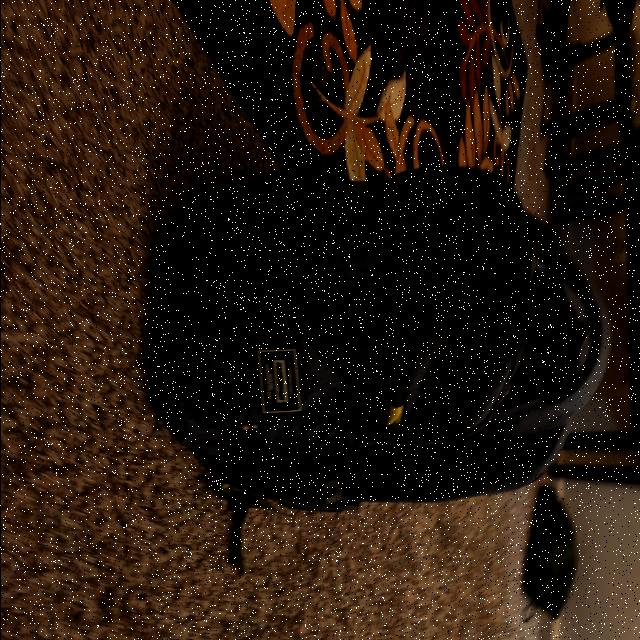bag: (153, 164, 605, 490)
